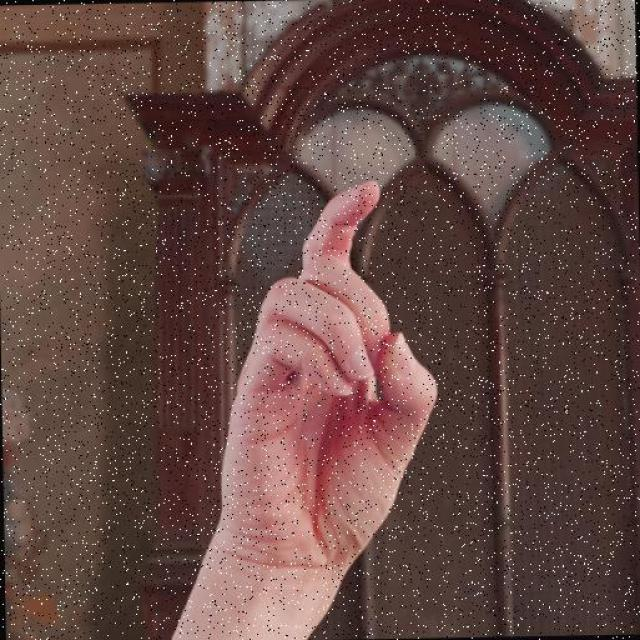X: (196, 174, 447, 574)
